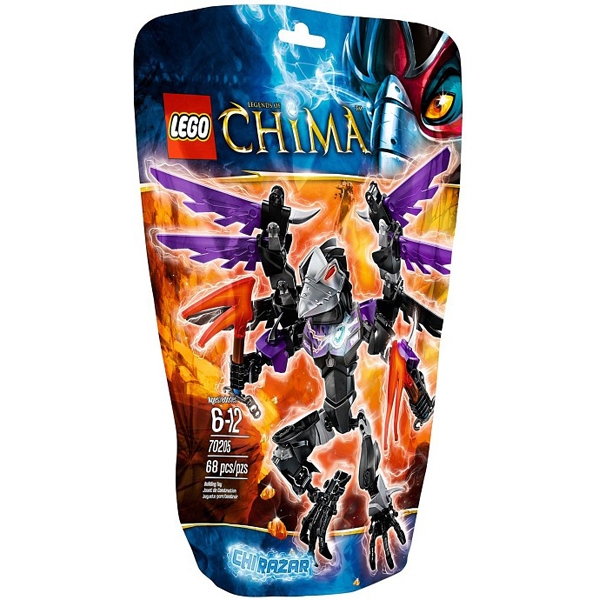LEGO: (157, 81, 226, 164)
